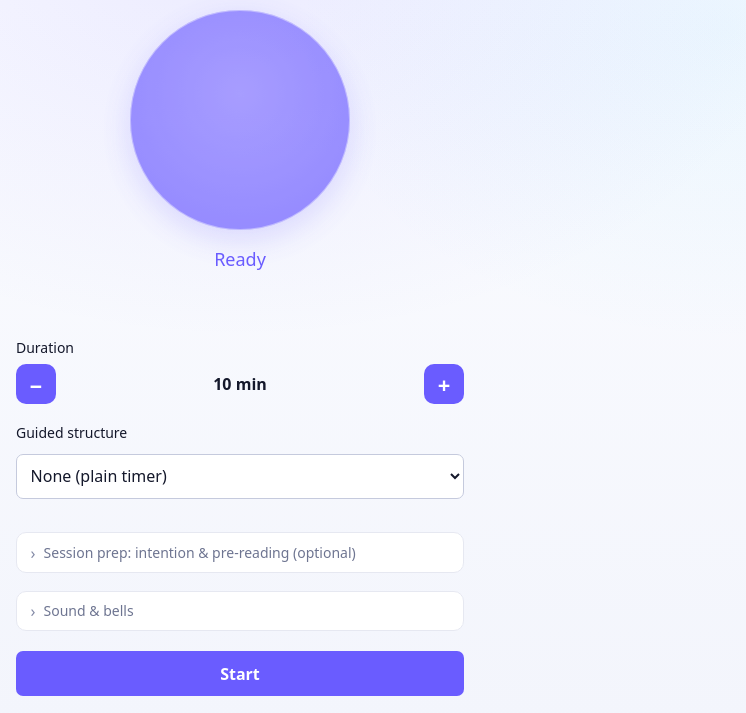
Test: MeditatePage — Sound & bells disclosure › opening the disclosure reveals the Bells select
The width and height of the screenshot is (746, 713).
(page scrolled)
What coordinates should you click on to do the following:
click the heading "Sound & bells"
I would click on:
 (89, 611)
Its box is [44,602,134,620].
(page scrolled)
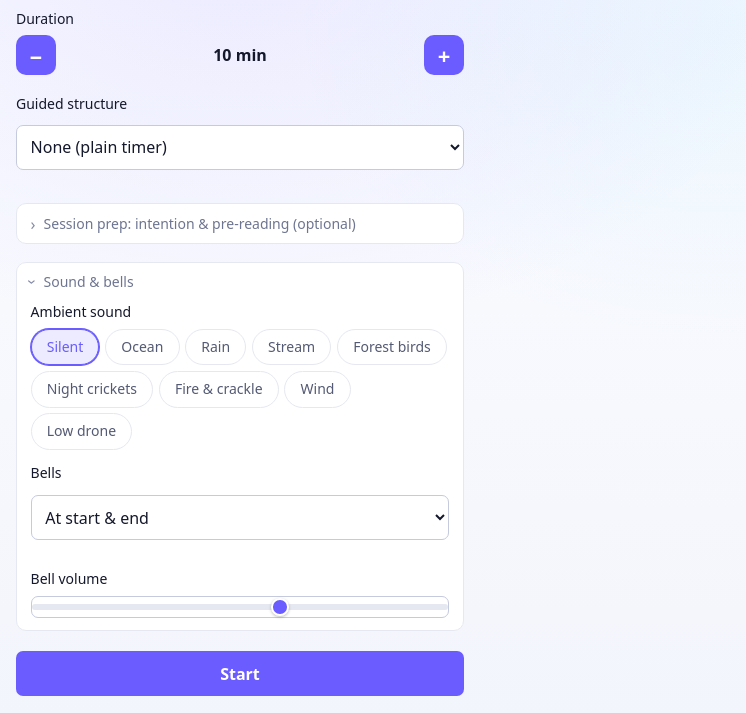
Result: the dropdown labelled "Bells" is shown at [31,495,449,540]
